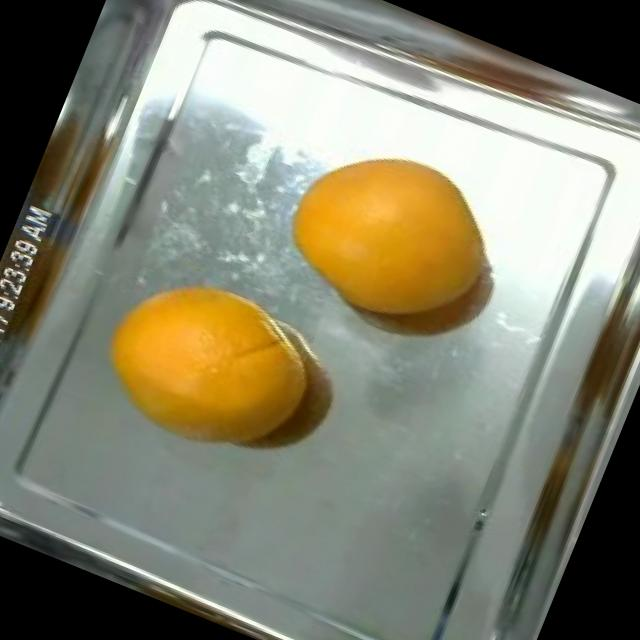Fruit: (68, 243, 316, 481)
